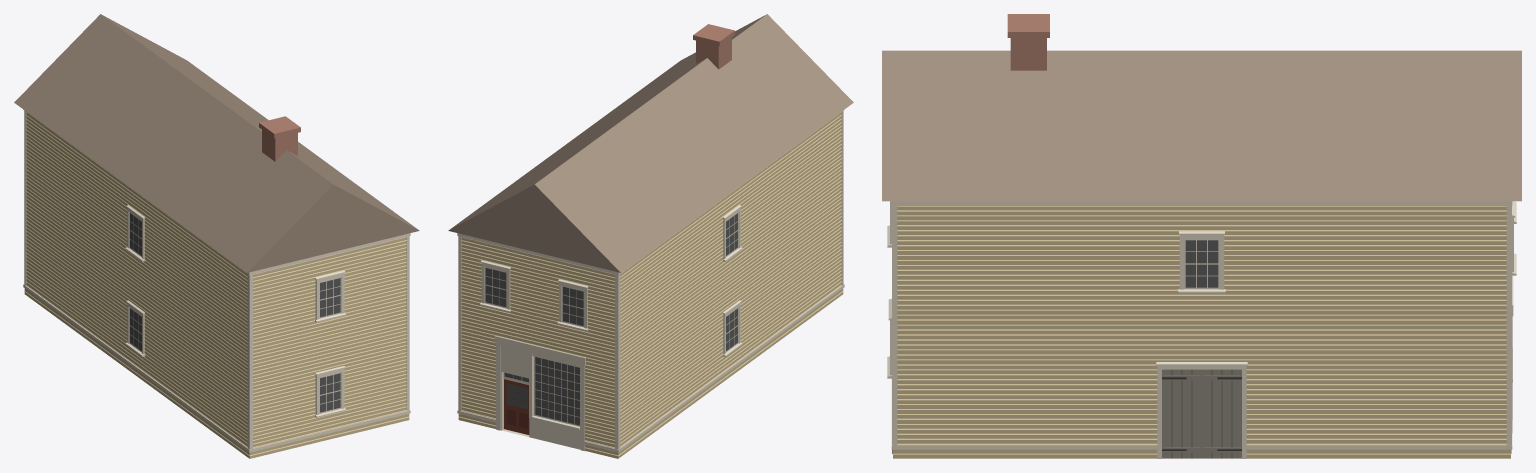
File: recon_1835_south_c3_040__inferred_1835.glb
The picture shows the model from 3 angles, left to right: view 1: azimuth 30°, elevation 25°; view 2: azimuth 150°, elevation 25°; view 3: azimuth 270°, elevation 25°; orthographic projection. The views are drawn at different scales.
Parts seen in each view (by area): view 1: recon_1835_south_c3_040__inferred_1835; view 2: recon_1835_south_c3_040__inferred_1835; view 3: recon_1835_south_c3_040__inferred_1835.
Boxes of the visible parts, x1=… form: recon_1835_south_c3_040__inferred_1835: x1=14, y1=14, x2=419, y2=458; recon_1835_south_c3_040__inferred_1835: x1=448, y1=14, x2=853, y2=458; recon_1835_south_c3_040__inferred_1835: x1=882, y1=14, x2=1521, y2=458.
Size of the model in its own units: 6.36 by 9.77 by 14.83.
